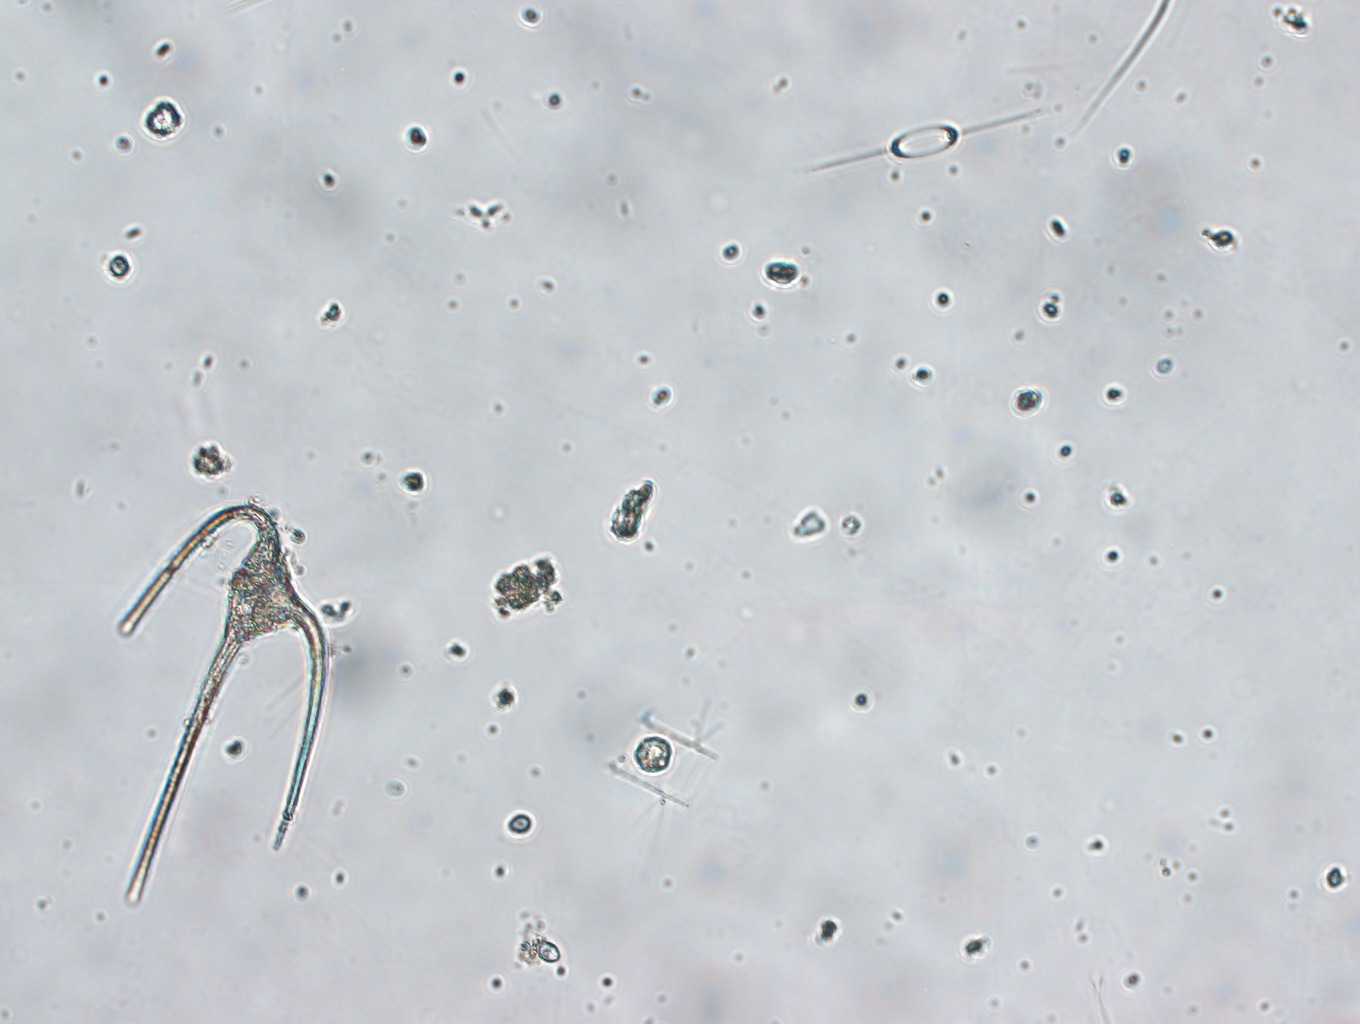ceratium trichoceros: (102, 493, 331, 909)
chaetoceros: (601, 675, 730, 868), (802, 91, 1053, 179)
